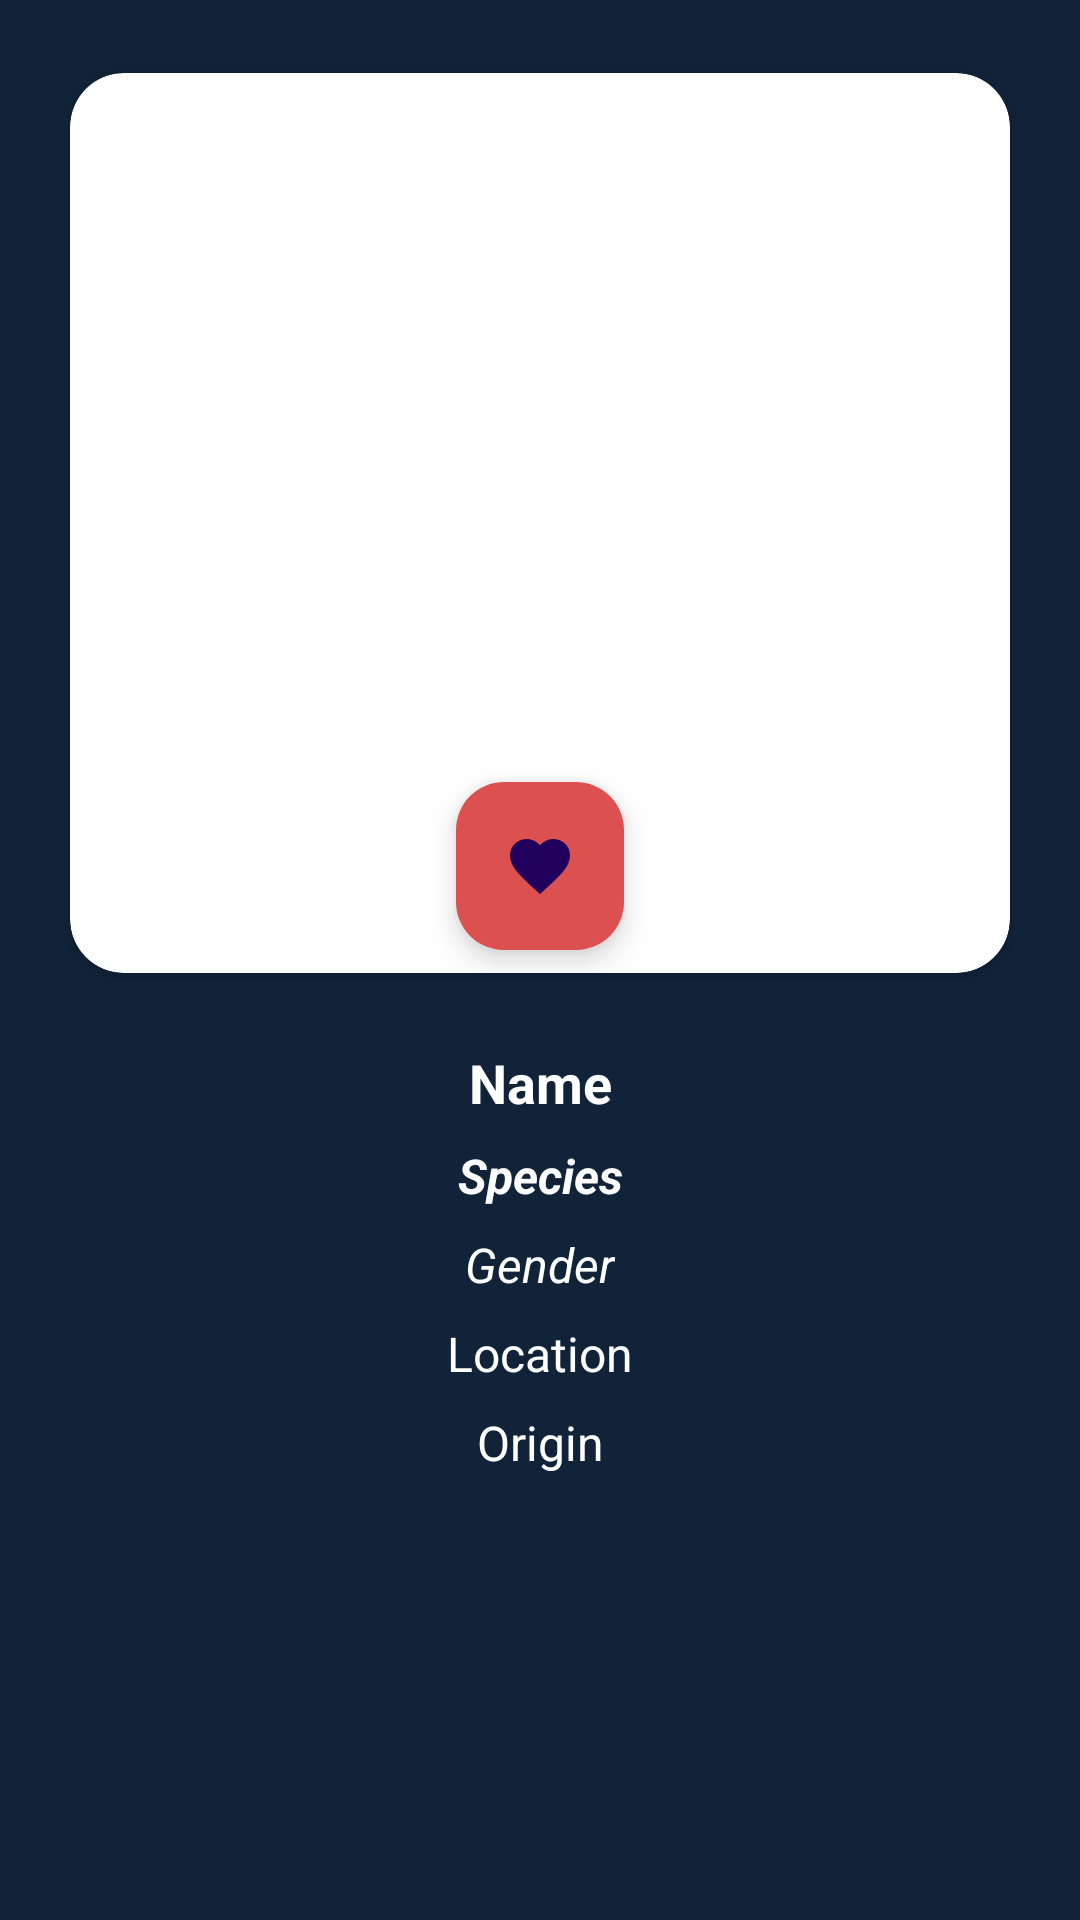

Icons on this 1080px×1920px Android screen, each with its box as [left=x1, top=y1, right=x2, bottom=y2]:
favorite: [left=456, top=782, right=624, bottom=950]
